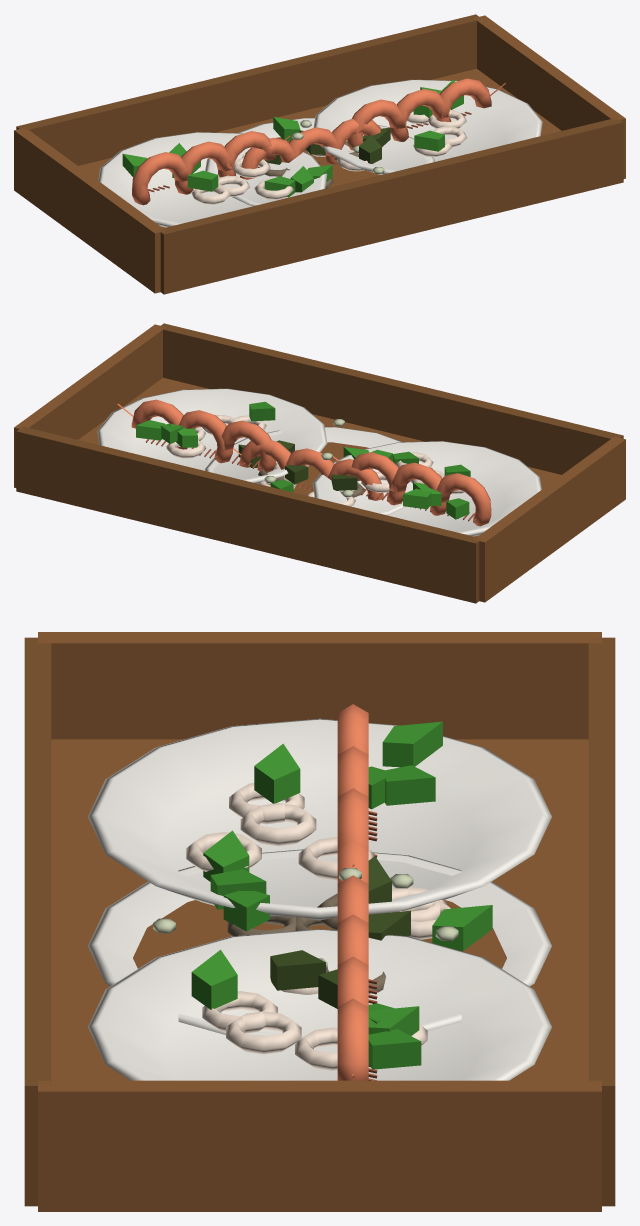
Rendered from Sea_StirFry.fbx.
The picture shows the model from 3 angles, top to bottom: view 1: azimuth 30°, elevation 25°; view 2: azimuth 150°, elevation 25°; view 3: azimuth 270°, elevation 25°; orthographic projection. The views are drawn at different scales.
Parts seen in each view (by area): view 1: Sea_StirFry__Stack, Sea_StirFry, Sea_StirFry__Rotten; view 2: Sea_StirFry__Stack, Sea_StirFry, Sea_StirFry__Rotten; view 3: Sea_StirFry__Stack, Sea_StirFry, Sea_StirFry__Rotten.
Part boxes in pixels (x1=…): Sea_StirFry__Stack: x1=14, y1=14, x2=625, y2=294; Sea_StirFry: x1=205, y1=117, x2=434, y2=206; Sea_StirFry__Rotten: x1=245, y1=120, x2=390, y2=188; Sea_StirFry__Stack: x1=14, y1=323, x2=625, y2=603; Sea_StirFry: x1=205, y1=427, x2=432, y2=515; Sea_StirFry__Rotten: x1=238, y1=419, x2=364, y2=497; Sea_StirFry__Stack: x1=24, y1=632, x2=615, y2=1211; Sea_StirFry: x1=88, y1=830, x2=551, y2=1041; Sea_StirFry__Rotten: x1=153, y1=856, x2=458, y2=1008.
Bounding box in the file's own units: 0.328 × 0.0413 × 0.178.
